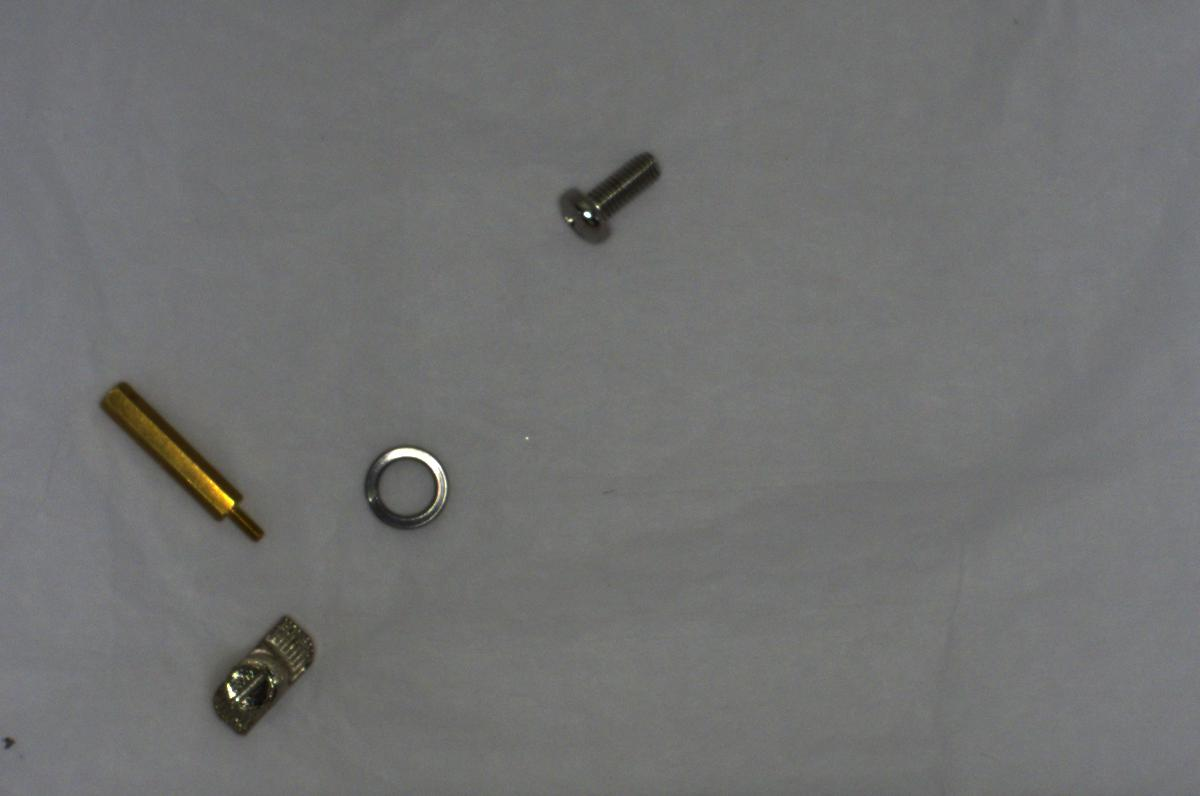Hexagon pillar: (93, 375, 262, 541)
Round head screw: (552, 147, 667, 249)
Spring washer: (352, 435, 451, 530)
T-shaped screw: (206, 608, 320, 740)
